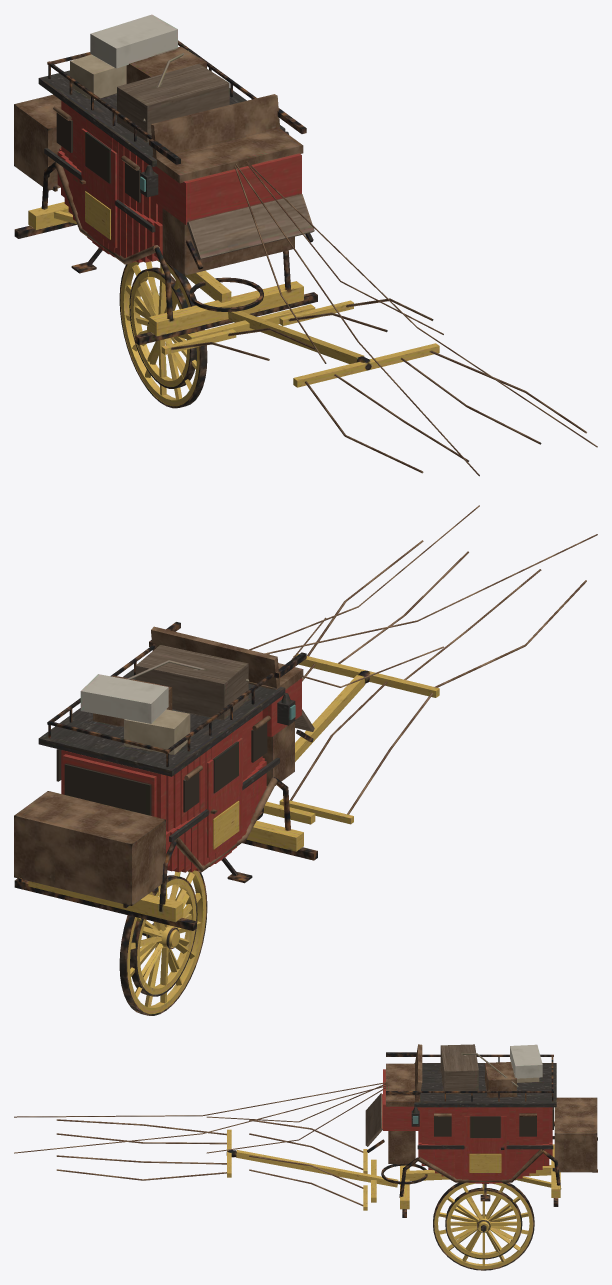
File: coach.glb
3 views of the same model, one above another, from view 1: azimuth 30°, elevation 25°; view 2: azimuth 150°, elevation 25°; view 3: azimuth 270°, elevation 25° (orthographic). The views are drawn at different scales.
Parts seen in each view (by area): view 1: coach_body, coach_gear, wheel_rear, wheel_front; view 2: coach_body, coach_gear, wheel_rear, wheel_front; view 3: coach_body, coach_gear, wheel_rear, wheel_front.
Part boxes in pixels (box(x1,y1,x2,y2)): coach_body: box(14, 14, 314, 275); coach_gear: box(14, 161, 597, 476); wheel_rear: box(119, 260, 207, 408); wheel_front: box(129, 267, 196, 388); coach_body: box(14, 622, 314, 907); coach_gear: box(14, 505, 597, 930); wheel_rear: box(119, 870, 207, 1015); wheel_front: box(130, 875, 197, 996); coach_body: box(365, 1044, 597, 1201); coach_gear: box(14, 1082, 561, 1217); wheel_rear: box(433, 1182, 534, 1270); wheel_front: box(445, 1187, 522, 1259).
Bounding box in the file's own units: 1.99 × 3.47 × 8.49.
Materials: 1 (1 with a texture image).
